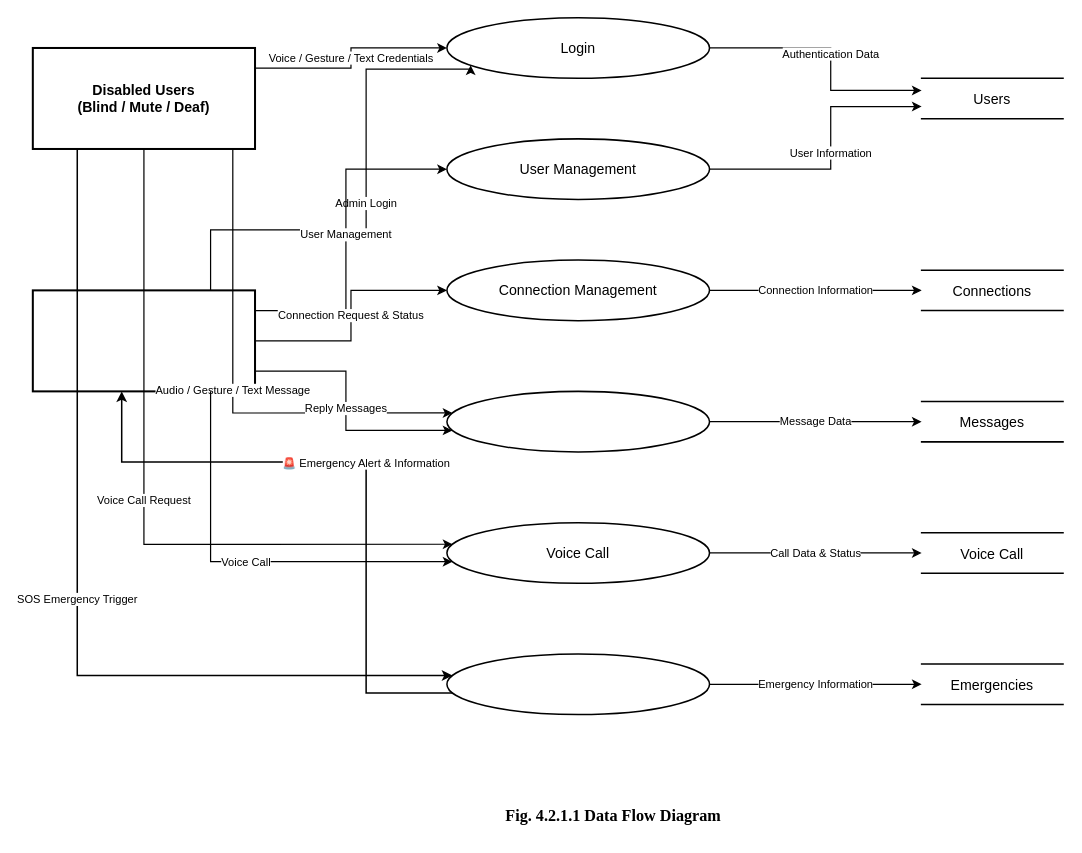
Image size: 1082x853. Some labels were removed from this diagram. Here are the shapes that lost their labels. From the top down, the box of each, then its label:
(31, 289, 256, 392): Caregiver / Admin
(446, 390, 710, 452): Communication
(446, 653, 710, 715): Emergency Management
